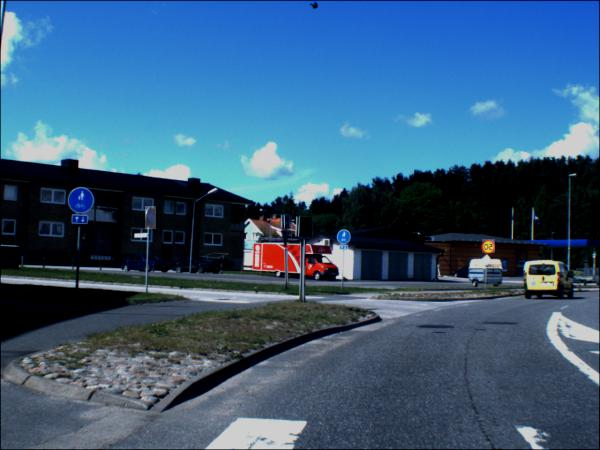50_SIGN: (482, 240, 496, 255)
NO_PARKING: (145, 207, 157, 231)
PEDESTRIAN_CROSSING: (299, 218, 313, 239), (285, 216, 290, 230)
